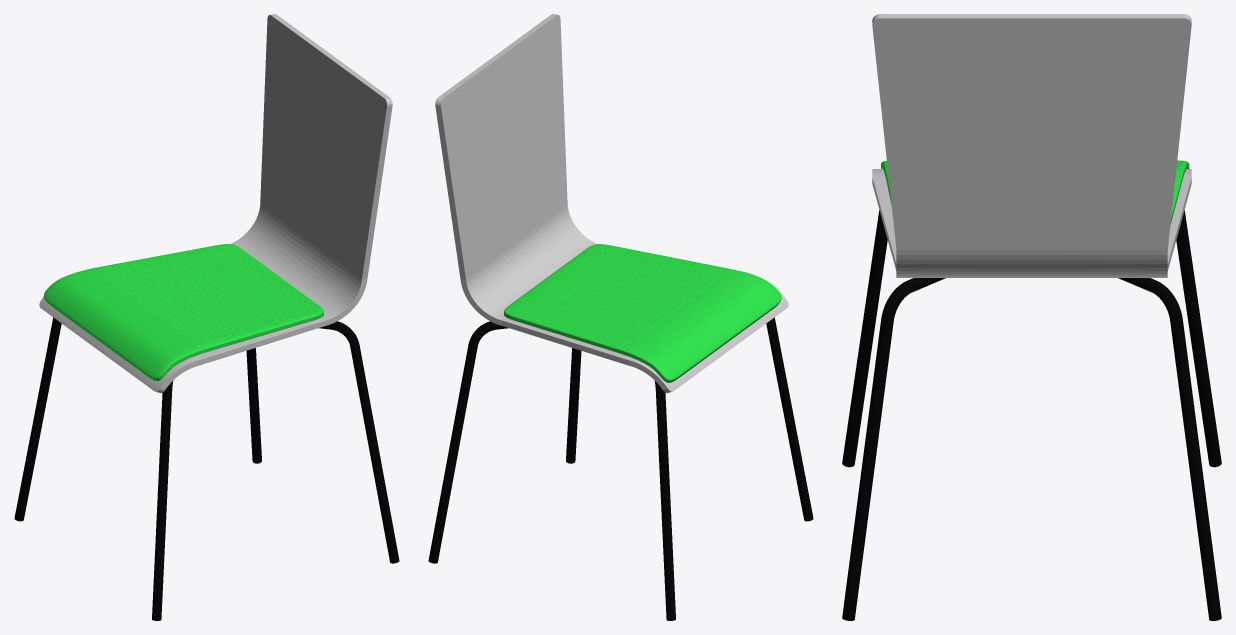
Rendered from green_chair.dae.
3 renders of one model, left to right at view 1: azimuth 30°, elevation 25°; view 2: azimuth 150°, elevation 25°; view 3: azimuth 270°, elevation 25°, orthographic. The views are drawn at different scales.
Parts seen in each view (by area): view 1: Body, Cube, Foot; view 2: Body, Cube, Foot; view 3: Body, Foot, Cube.
Boxes of the visible parts, left/top/right/bottom form: Body: left=39, top=14, right=392, bottom=393; Cube: left=43, top=244, right=323, bottom=381; Foot: left=14, top=317, right=399, bottom=620; Body: left=435, top=14, right=788, bottom=393; Cube: left=504, top=244, right=781, bottom=382; Foot: left=428, top=317, right=813, bottom=620; Body: left=872, top=14, right=1191, bottom=277; Foot: left=842, top=210, right=1221, bottom=620; Cube: left=881, top=160, right=1189, bottom=225.
Bounding box in the file's own units: 0.4818 × 0.4755 × 0.8387.
